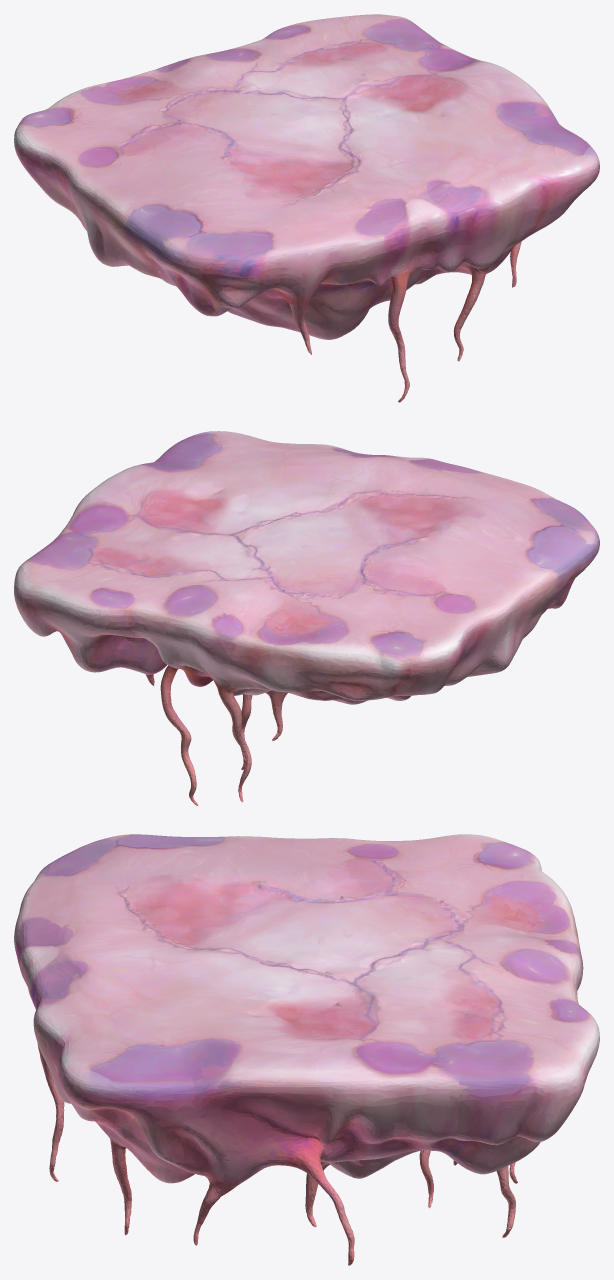
The model's file is GroundTerrain.fbx.
3 renders of one model, top to bottom at view 1: azimuth 30°, elevation 25°; view 2: azimuth 150°, elevation 25°; view 3: azimuth 270°, elevation 25°, orthographic. The views are drawn at different scales.
Parts seen in each view (by area): view 1: temp.001; view 2: temp.001; view 3: temp.001.
Boxes of the visible parts, x1,y1,x2,y2 form: temp.001: (14,14,599,402); temp.001: (14,431,599,805); temp.001: (14,834,599,1265).
Bounding box in the file's own units: 1.99 × 1.01 × 1.92.
1 material, 1 textured.
